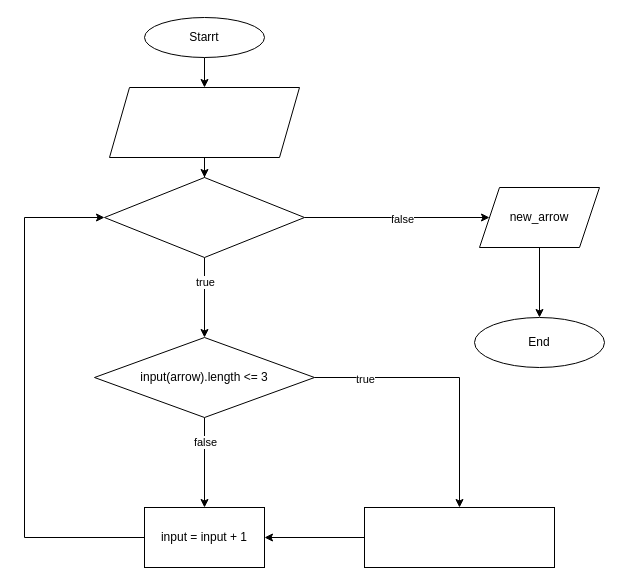
Some shapes in this 622 by 585 pixel diagram are drawn without their labels. Each missing label, with the centre of its shape:
"arrow = [] input = 0 new_arrow input(arrow).lenght" belongs at point (204, 122).
"input < arrow.length" belongs at point (204, 217).
"input(new.arrow) = input(arrow)" belongs at point (459, 537).
